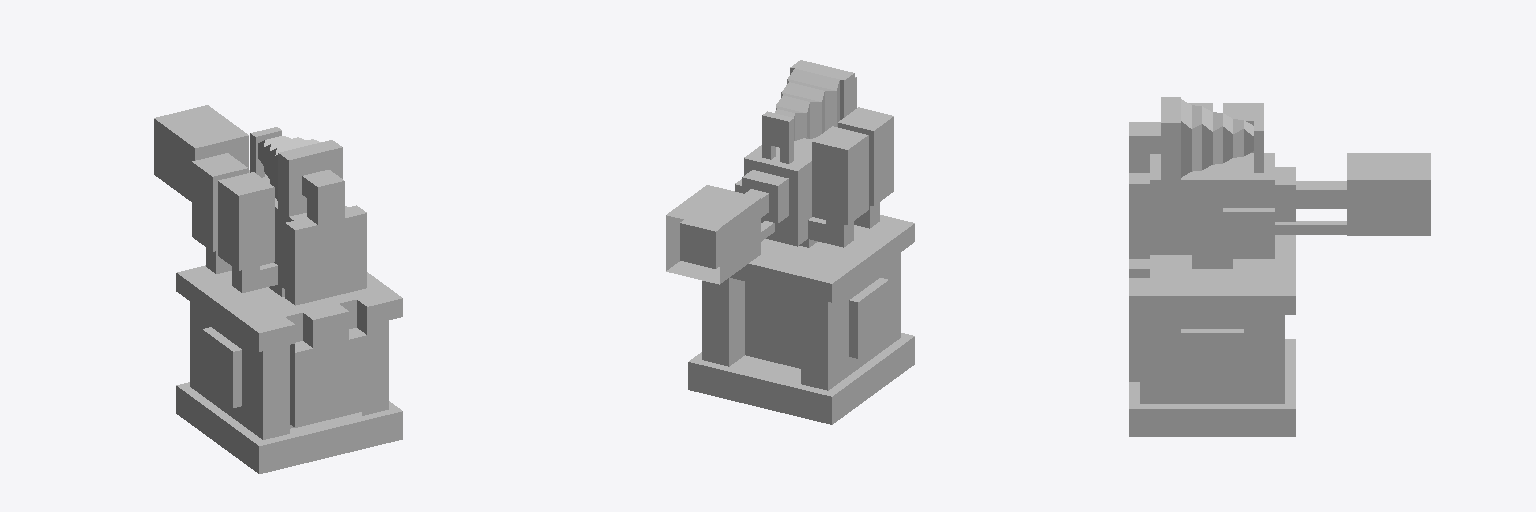
The model's file is chemTurret_inv.obj.
The picture shows the model from 3 angles: view 1: azimuth 30°, elevation 25°; view 2: azimuth 150°, elevation 25°; view 3: azimuth 270°, elevation 25°; orthographic projection.
Visible parts, largest first — view 1: base, gun; view 2: base, gun; view 3: gun, base.
Part boxes in pixels (x1,y1,x2,y2): base: (176,265,402,473); gun: (154,105,366,305); base: (688,215,914,424); gun: (666,60,893,284); gun: (1129,97,1430,268); base: (1129,235,1295,436).
Bounding box in the file's own units: 1 × 1.94 × 1.81.